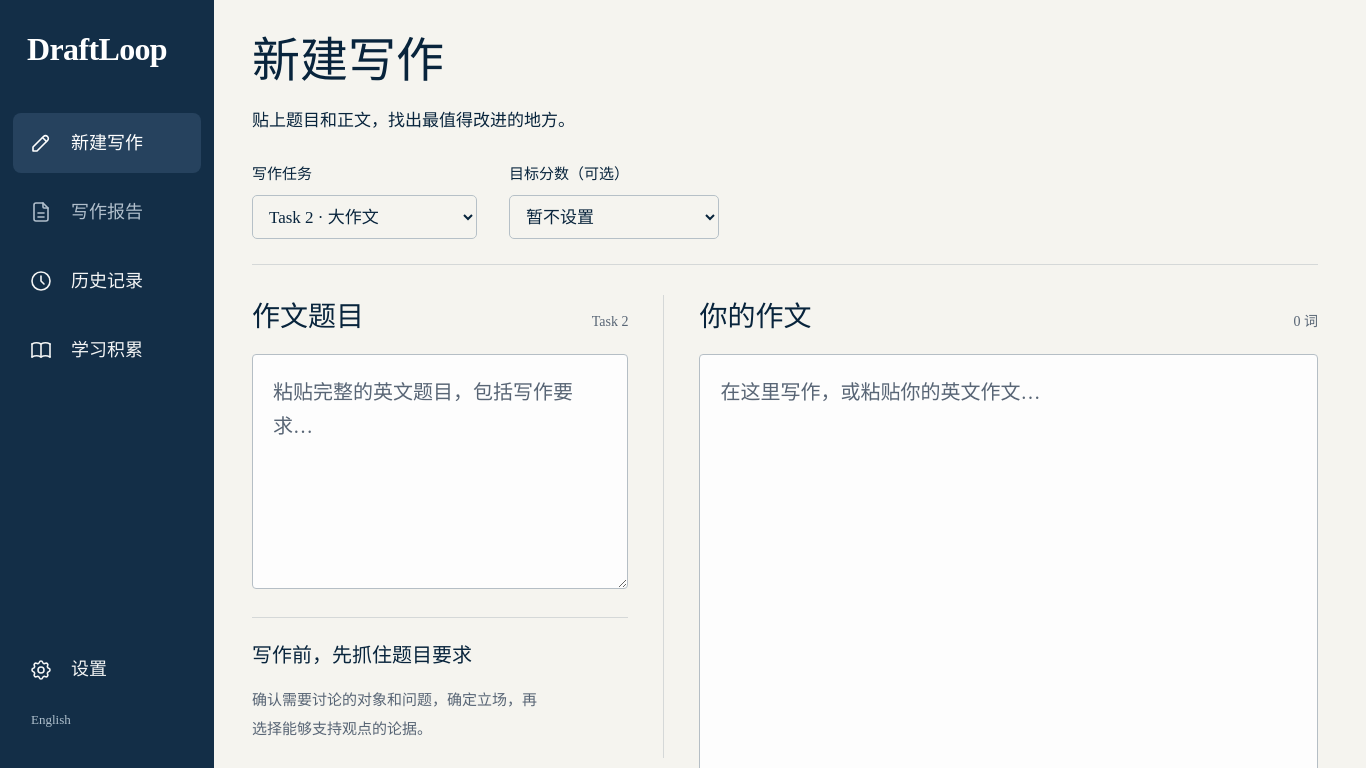
Test: renders dated history without treating server timestamps as numbers
Click the button "历史记录".
click(107, 281)  # box [13,251,201,311]
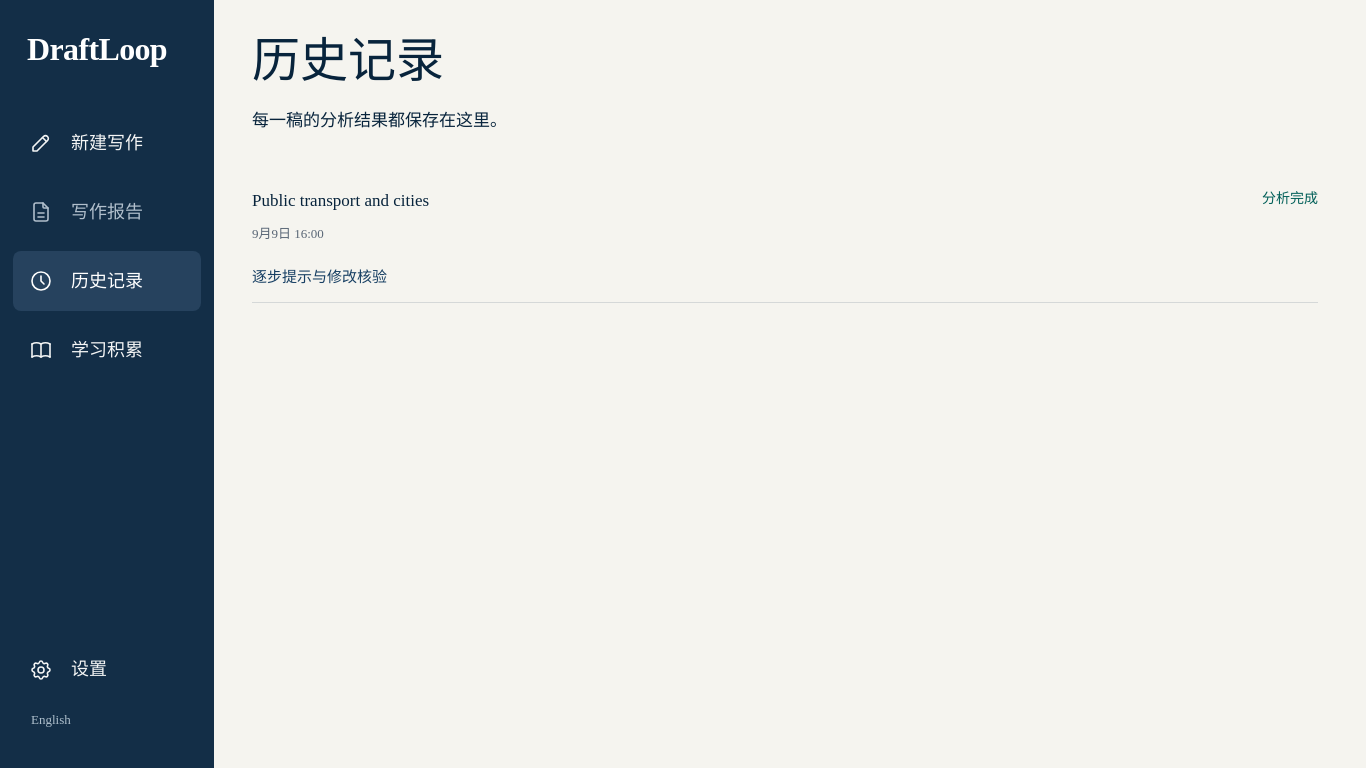
Expected: the button "Public transport and cities" shows "分析完成", [252,167,1318,264]
